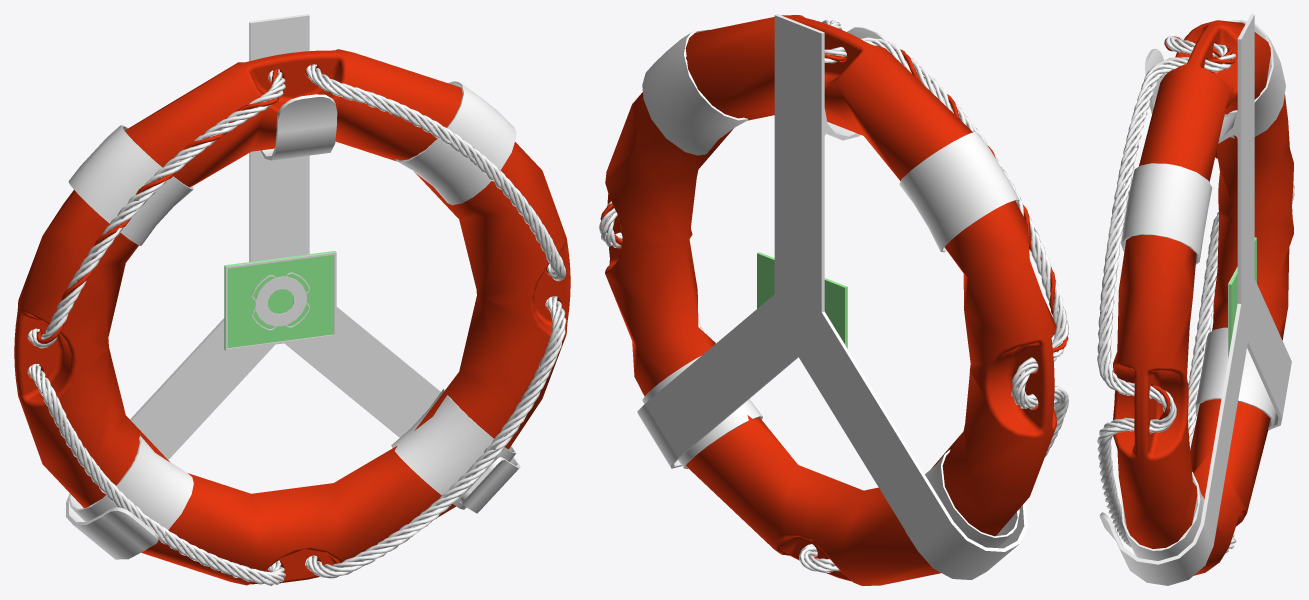
3 views of the same model, side by side, from view 1: azimuth 30°, elevation 25°; view 2: azimuth 150°, elevation 25°; view 3: azimuth 270°, elevation 25° (orthographic). The views are drawn at different scales.
Visible parts, largest first — view 1: NAUO26; view 2: NAUO26; view 3: NAUO26.
Boxes of the visible parts, bbox=[...] form: NAUO26: bbox=[14, 14, 570, 585]; NAUO26: bbox=[599, 14, 1068, 585]; NAUO26: bbox=[1097, 14, 1294, 585].
Bounding box in the file's own units: 0.7326 × 0.7744 × 0.2594.
